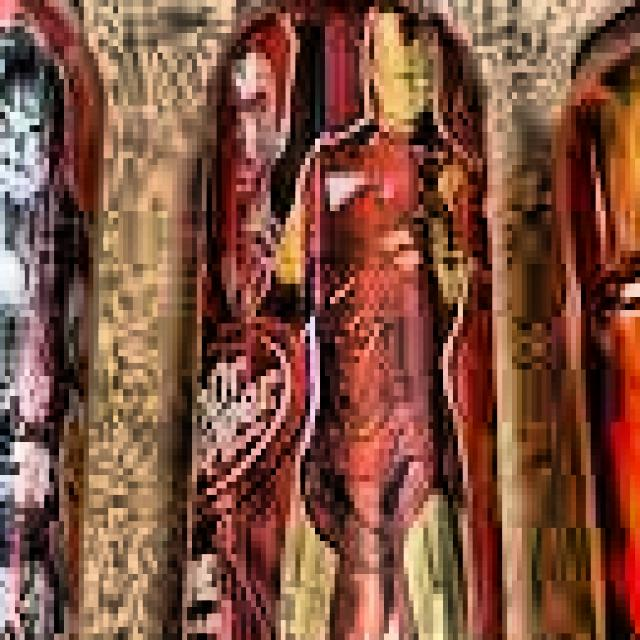metal: (167, 0, 512, 640), (0, 0, 113, 640)
